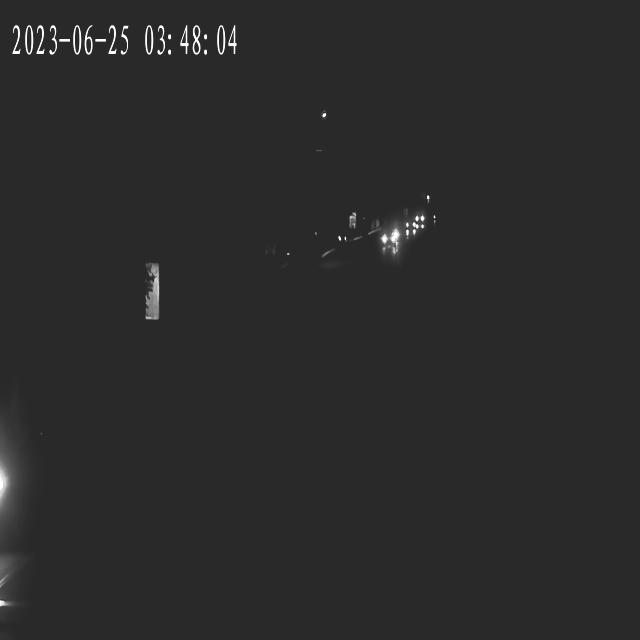Car: (0, 420, 46, 538), (406, 213, 426, 242), (379, 232, 398, 250)
